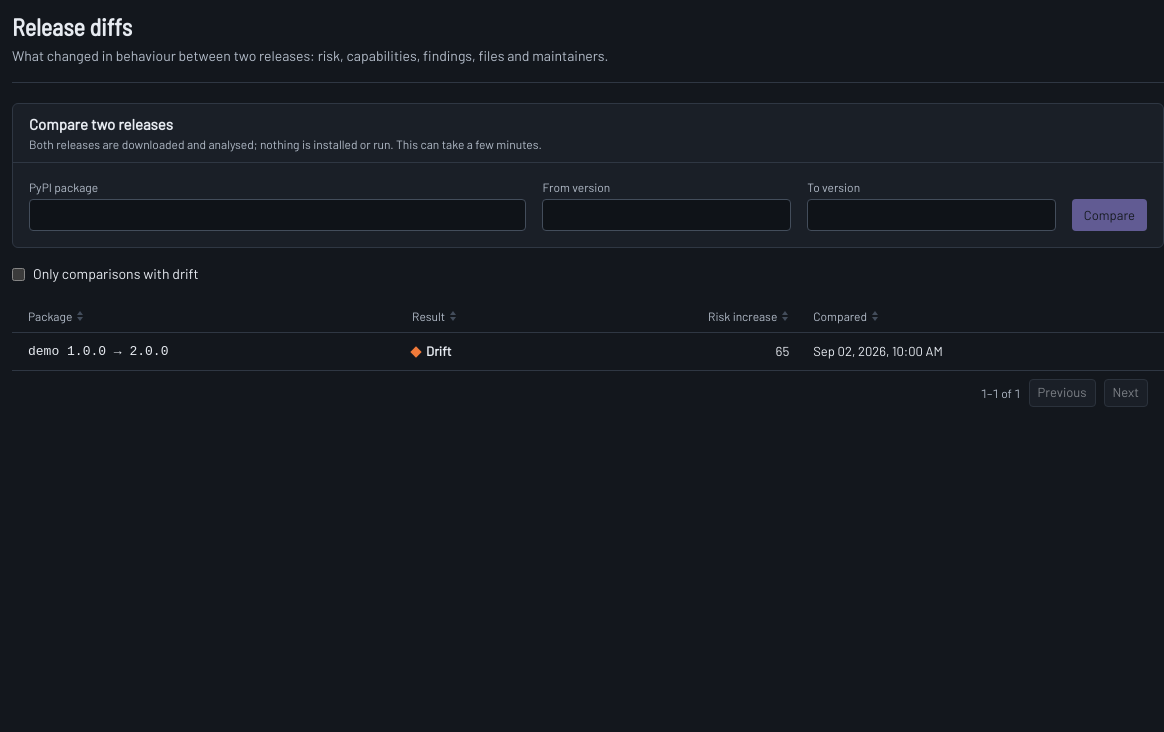
Test: Release diffs › compares two releases and opens the result
The image size is (1164, 732).
Expected: the link "demo 1.0.0 → 2.0.0" is shown, [28, 344, 168, 359]
Type "demo" into the field labelled "PyPI package" at [278, 215], box [29, 199, 526, 231]
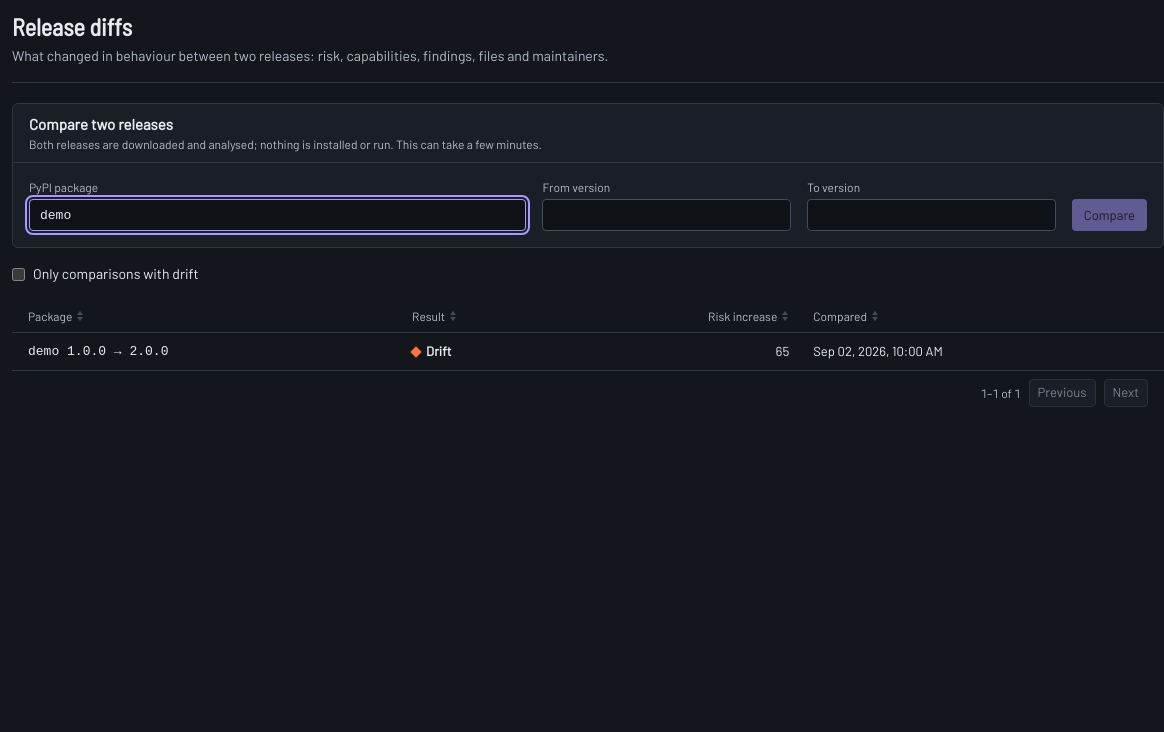
Type "1.0.0" into the field labelled "From version" at [667, 215], box [542, 199, 791, 231]
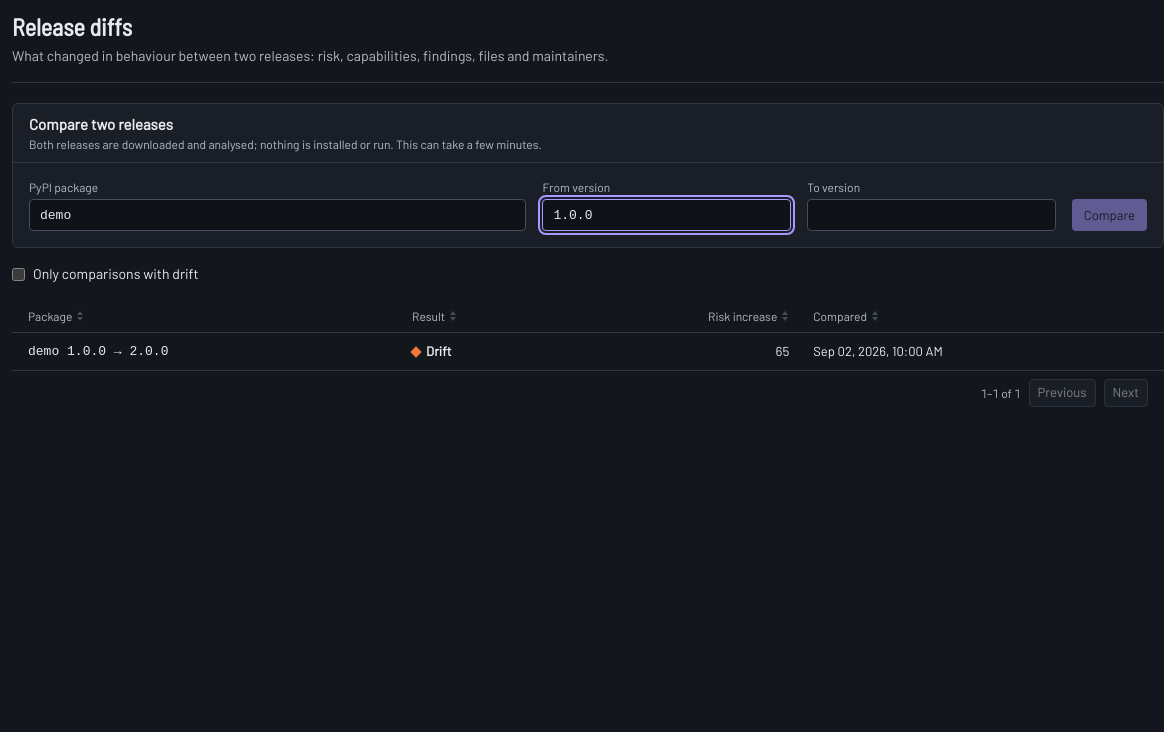
Type "2.0.0" into the field labelled "To version" at [931, 215], box [807, 199, 1056, 231]
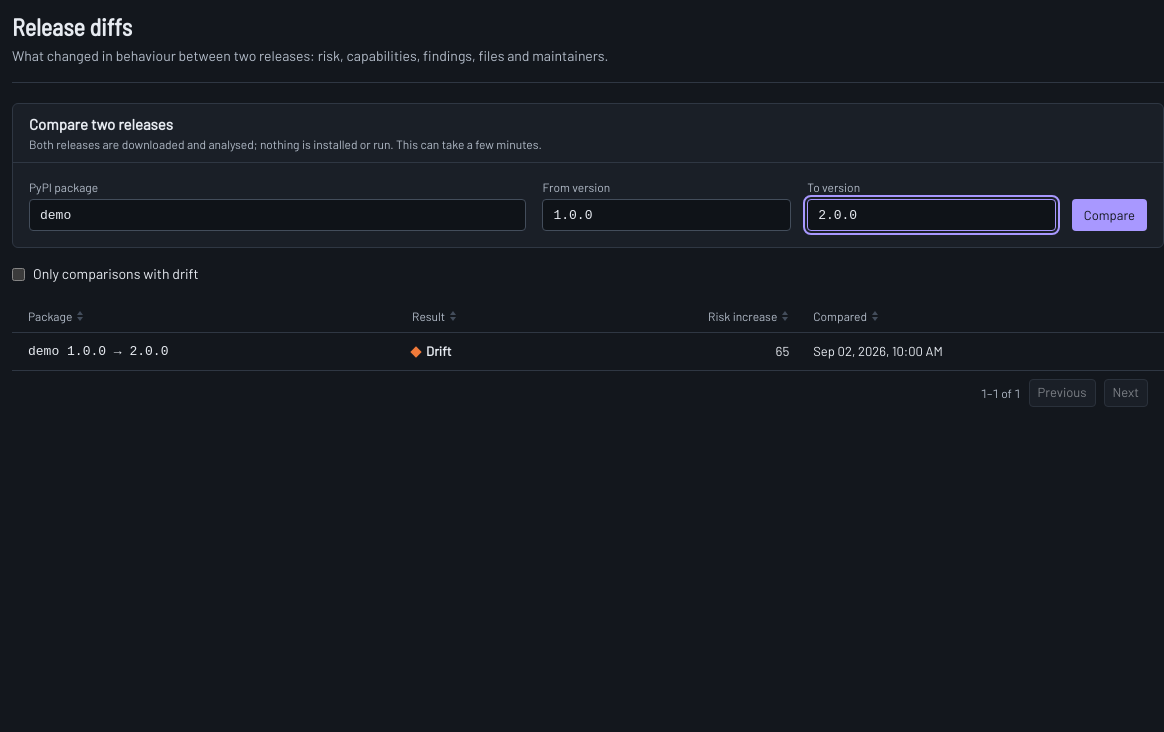
Click the button "Compare" at [1109, 215], box [1072, 199, 1147, 231]
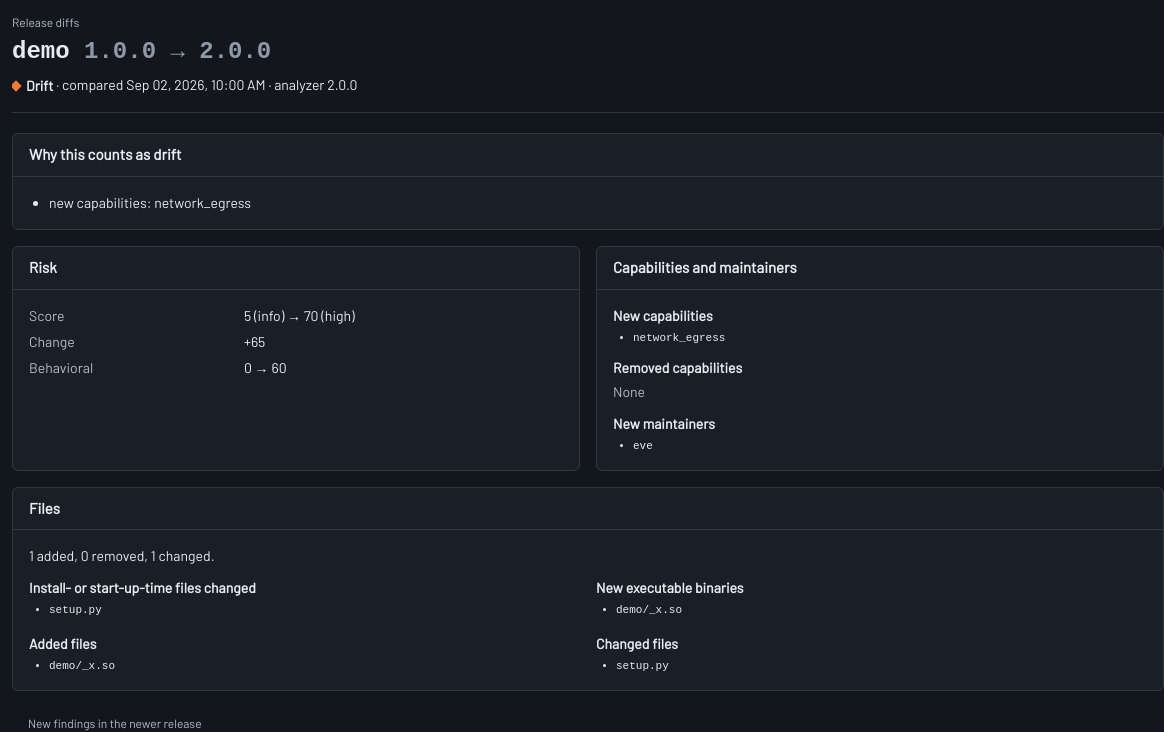
Result: the heading "Why this counts as drift" is shown at [29, 144, 182, 166]
